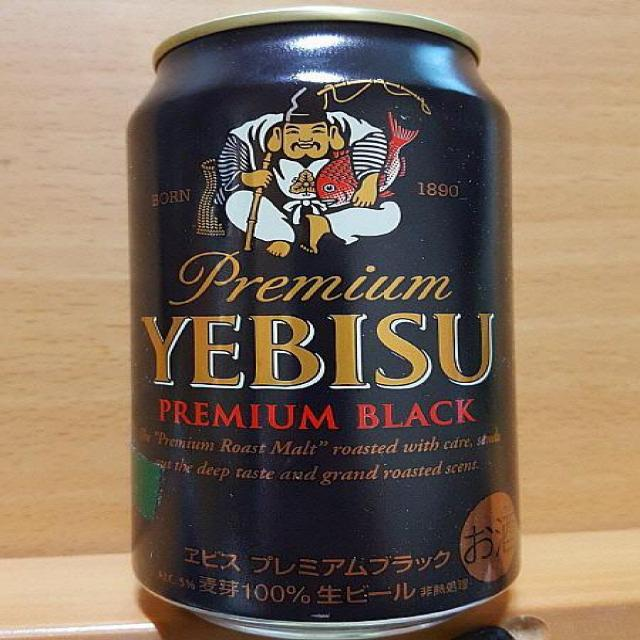beer-can: (125, 11, 526, 634)
